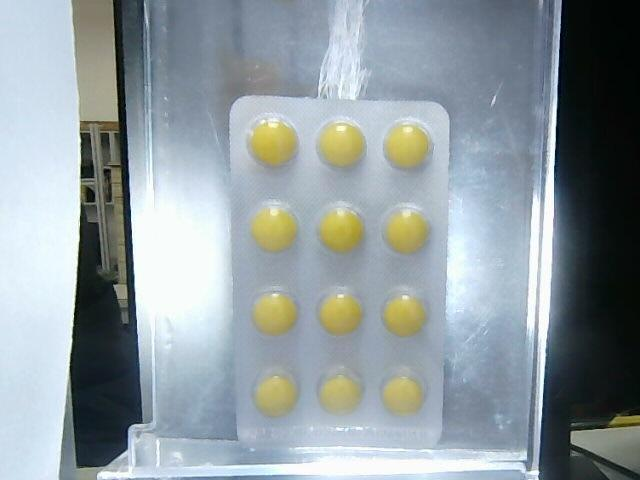Light Front: (230, 96, 447, 446)
Pill Front: (311, 367, 368, 425), (376, 204, 433, 261), (314, 284, 369, 342), (377, 366, 431, 425), (313, 204, 368, 261), (247, 114, 302, 170), (382, 115, 434, 172), (315, 115, 368, 170), (249, 285, 301, 340), (249, 200, 299, 257), (377, 288, 430, 341), (251, 368, 299, 423)
